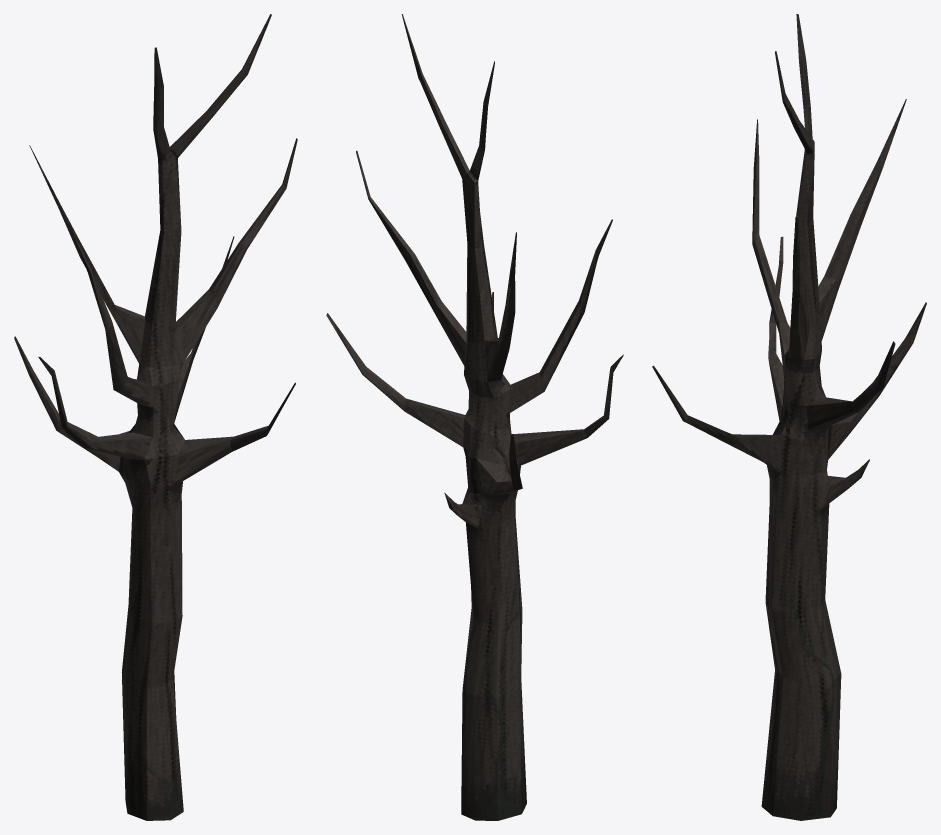
Rendered from tree1.fbx.
3 renders of one model, left to right at view 1: azimuth 30°, elevation 25°; view 2: azimuth 150°, elevation 25°; view 3: azimuth 270°, elevation 25°, orthographic. The views are drawn at different scales.
Visible parts, largest first — view 1: tree1; view 2: tree1; view 3: tree1.
Boxes of the visible parts, left/top/right/bottom form: tree1: left=14, top=14, right=297, bottom=820; tree1: left=326, top=14, right=623, bottom=820; tree1: left=652, top=14, right=926, bottom=820.
Bounding box in the file's own units: 6.4 × 17.83 × 5.48.
